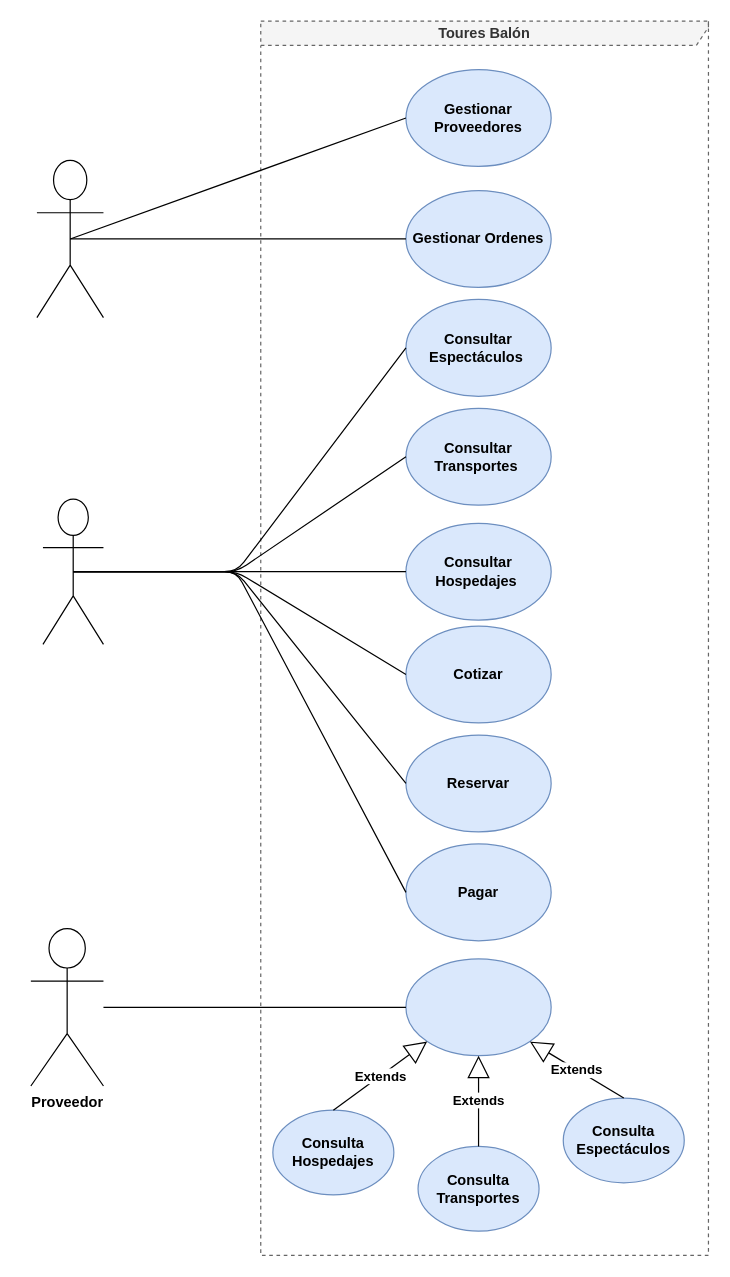
This 730x1277 diagram has some shape labels left out. The box of each missing label's shape, as (x1, y1, x2, y2) in pixels:
Administrador: (36, 159, 103, 318)
Cliente: (42, 498, 103, 644)
Comunicación en línea: (405, 958, 551, 1056)
